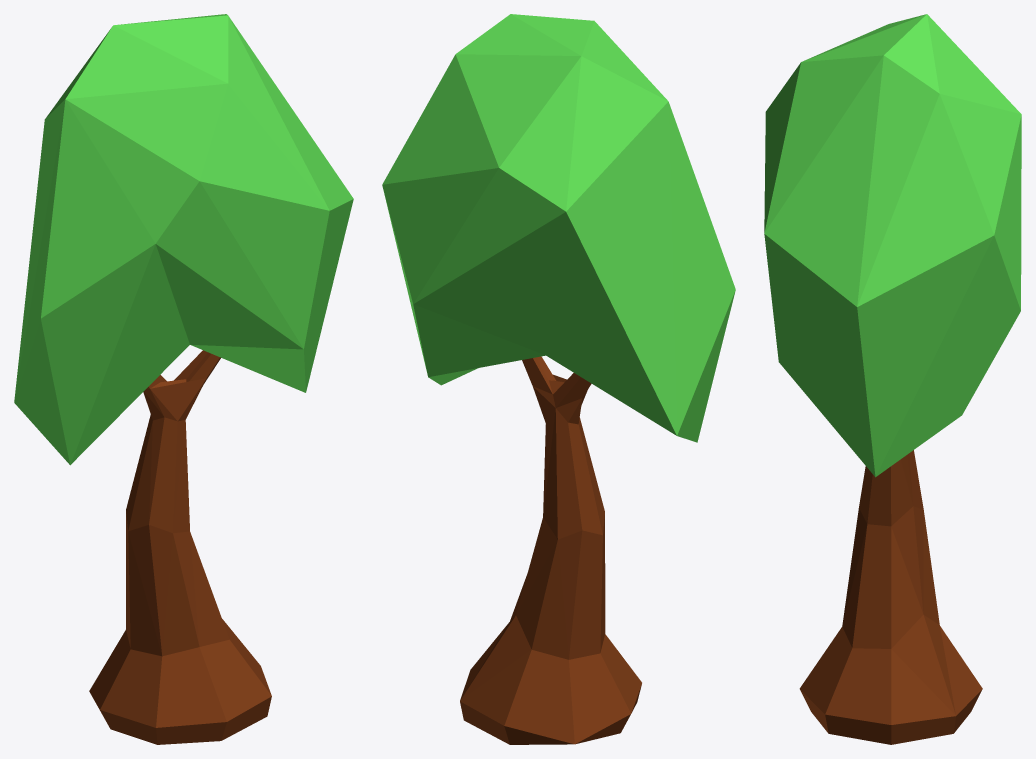
File: Albero 2.fbx
The picture shows the model from 3 angles, left to right: view 1: azimuth 30°, elevation 25°; view 2: azimuth 150°, elevation 25°; view 3: azimuth 270°, elevation 25°; orthographic projection.
Parts seen in each view (by area): view 1: Icosphere.001; view 2: Icosphere.001; view 3: Icosphere.001.
Part boxes in pixels (x1,y1,x2,y2): Icosphere.001: [14, 14, 353, 744]; Icosphere.001: [382, 14, 735, 744]; Icosphere.001: [764, 14, 1021, 744].
Size of the model in its own units: 68.58 by 143 by 48.73.
